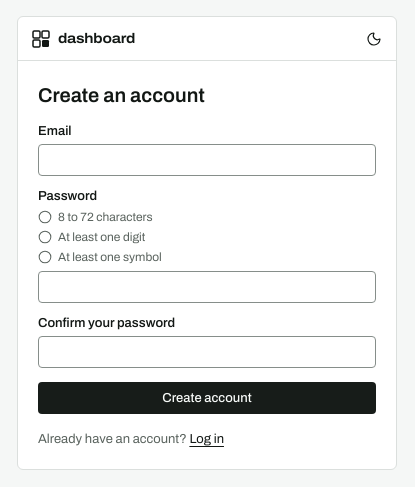
RegisterPage › registers with only email and password when the passwords match
Step 1. Type "ada@example.com" into the field labelled "Email" → x=207, y=160, box x1=38 y1=144 x2=376 y2=176
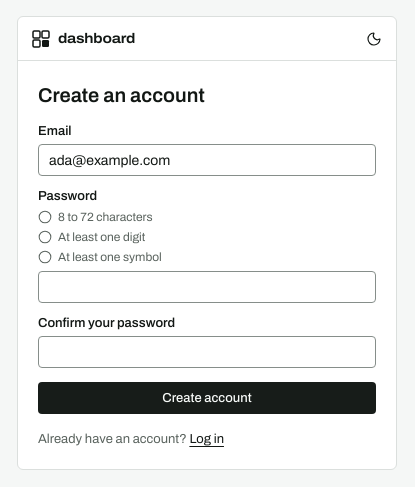
Step 2. Type "correct-horse-1!" into the password field labelled "Password" → x=207, y=287, box x1=38 y1=271 x2=376 y2=303
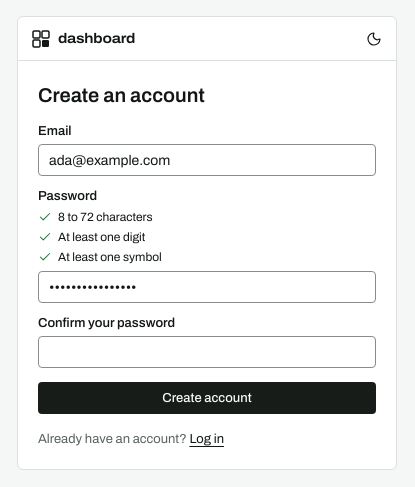
Step 3. Type "correct-horse-1!" into the password field labelled "Confirm your password" → x=207, y=352, box x1=38 y1=336 x2=376 y2=368
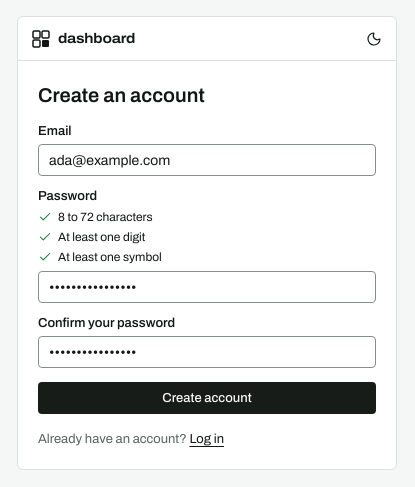
Step 4. Click the button "Create account" → x=207, y=398, box x1=38 y1=382 x2=376 y2=414
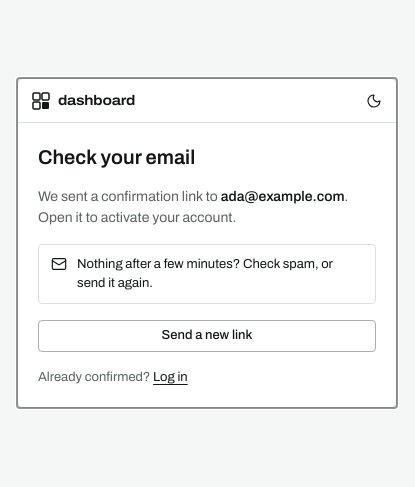
Result: the heading "Check your email" is shown at x1=38 y1=146 x2=195 y2=168
